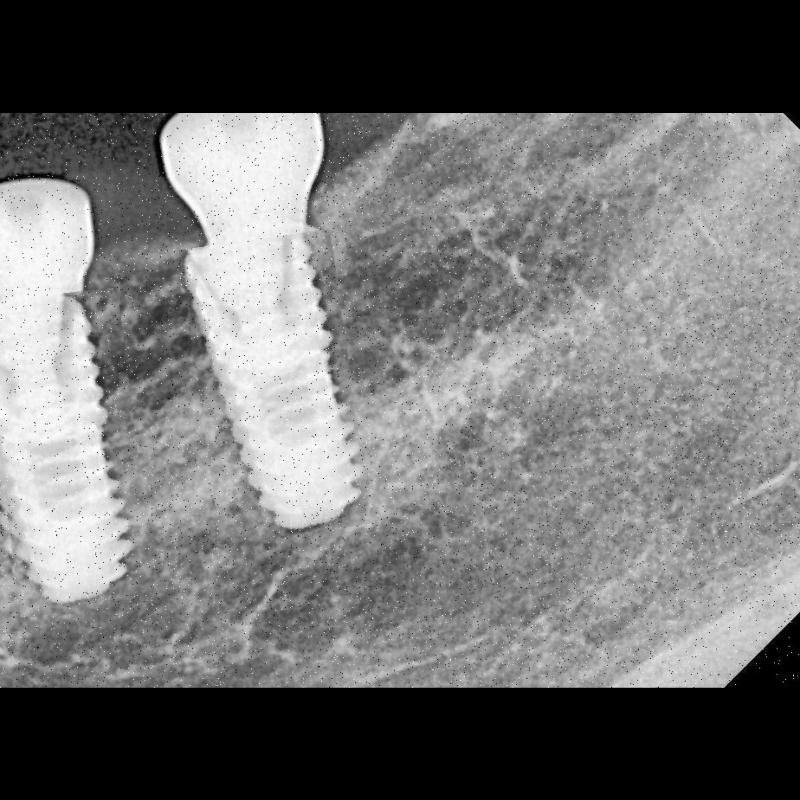osstem: (189, 234, 361, 540), (1, 290, 146, 614)
